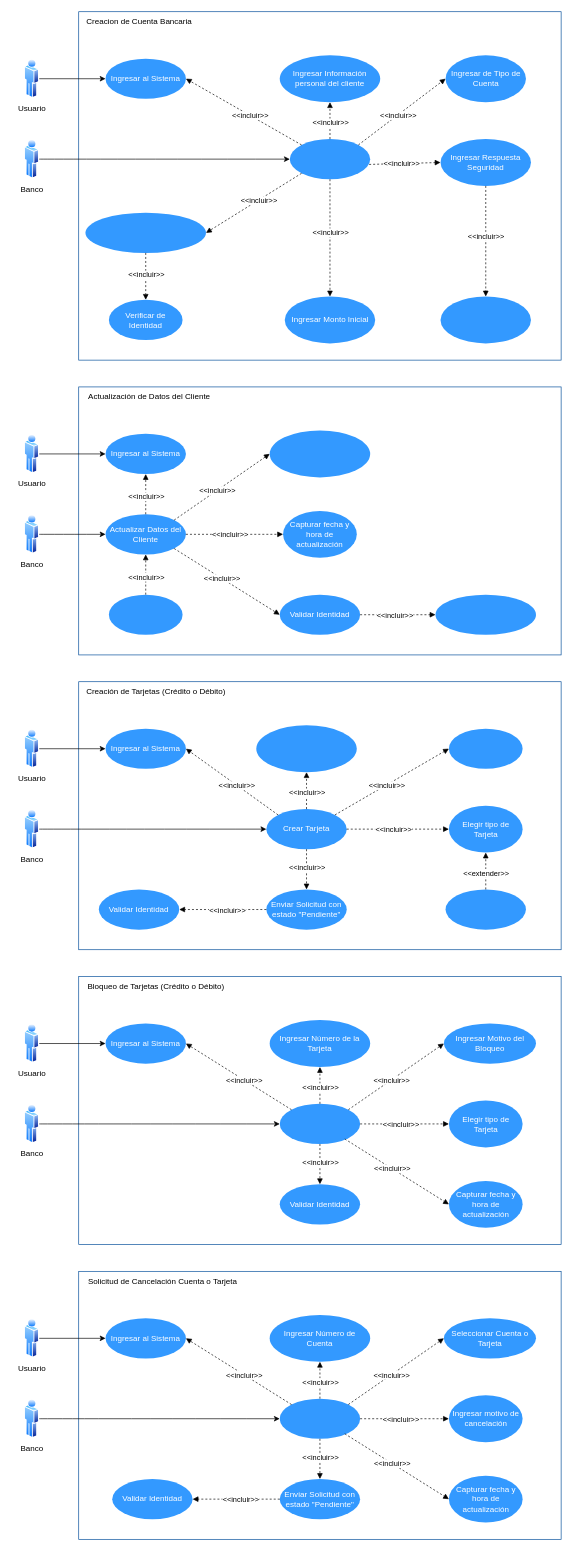
Image size: 573x1551. Some labels were removed from this diagram. Here are the shapes that lost their labels. From the top down, the centre of each, then its label:
the point at 329,159: Crear de cuenta
the point at 145,232: Generar Automatica mente el Número de Cuenta
the point at 485,319: Ingresar Pregunta de Seguridad
the point at 319,453: Ingresar Datos Actualizados
the point at 145,614: Guardar Actualización en Historial
the point at 485,614: Responder Pregunta de Seguridad
the point at 306,748: Vincular con número de cuenta bancaria
the point at 485,748: Ingresar Nombre del Titular
the point at 485,909: Ingresar límite de crédito
the point at 319,1123: Bloquear Tarjeta
the point at 319,1418: Cancelación de Servicio
